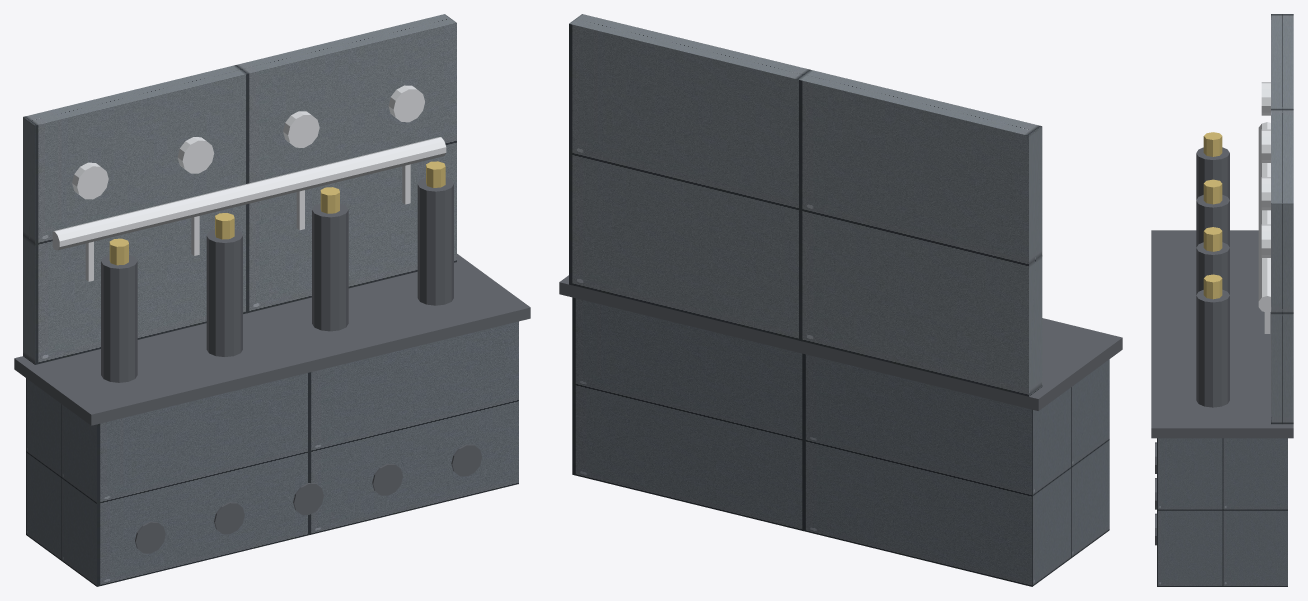
The model's file is fire-and-emergency-services-breathing-apparatus-chargi-0c976dad__29891.glb.
3 views of the same model, side by side, from view 1: azimuth 30°, elevation 25°; view 2: azimuth 150°, elevation 25°; view 3: azimuth 270°, elevation 25° (orthographic). The views are drawn at different scales.
Visible parts, largest first — view 1: breathing-apparatus-charging-bay; view 2: breathing-apparatus-charging-bay; view 3: breathing-apparatus-charging-bay.
Boxes of the visible parts, left/top/right/bottom form: breathing-apparatus-charging-bay: left=14, top=14, right=530, bottom=586; breathing-apparatus-charging-bay: left=559, top=14, right=1122, bottom=586; breathing-apparatus-charging-bay: left=1151, top=14, right=1293, bottom=586.
Bounding box in the file's own units: 2.5 × 2.26 × 0.7601.
Materials: 5 (2 with a texture image).
